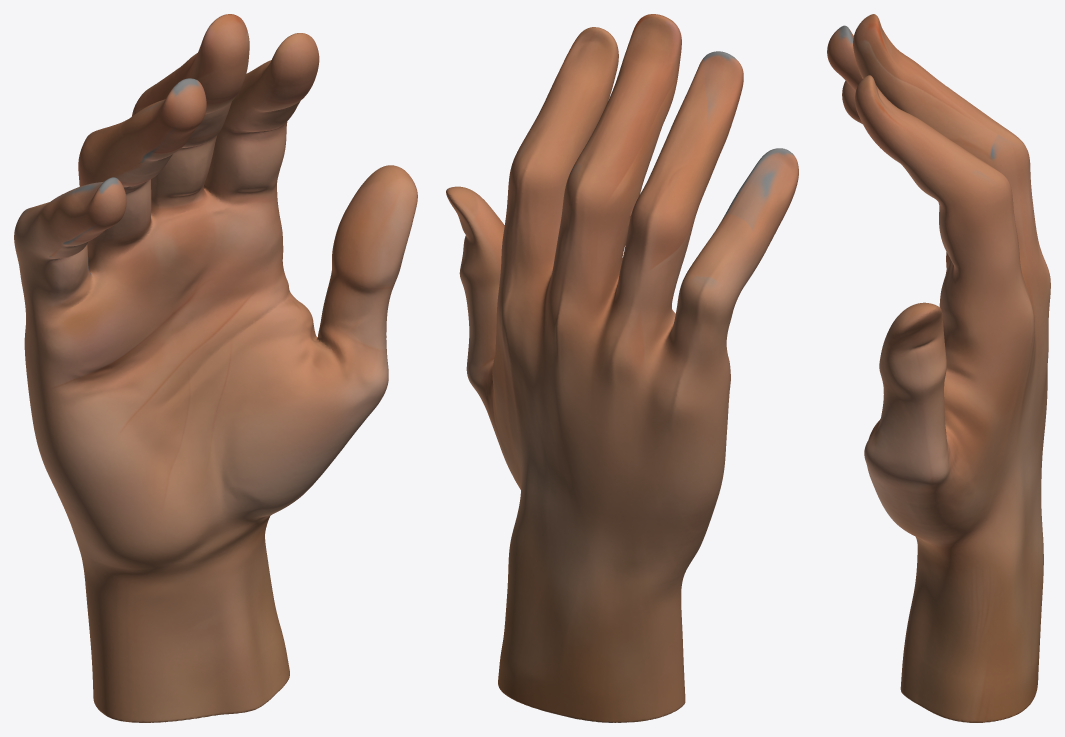
File: human_hand_3d_model.glb
The picture shows the model from 3 angles, left to right: view 1: azimuth 30°, elevation 25°; view 2: azimuth 150°, elevation 25°; view 3: azimuth 270°, elevation 25°; orthographic projection. The views are drawn at different scales.
Visible parts, largest first — view 1: tripo_node_bffa7dca-aee8-440f-bd4d-c9ad1c9b3b90; view 2: tripo_node_bffa7dca-aee8-440f-bd4d-c9ad1c9b3b90; view 3: tripo_node_bffa7dca-aee8-440f-bd4d-c9ad1c9b3b90.
Boxes of the visible parts, x1,y1,x2,y2 form: tripo_node_bffa7dca-aee8-440f-bd4d-c9ad1c9b3b90: (14,14,417,722); tripo_node_bffa7dca-aee8-440f-bd4d-c9ad1c9b3b90: (446,14,798,722); tripo_node_bffa7dca-aee8-440f-bd4d-c9ad1c9b3b90: (827,14,1050,722).
Size of the model in its own units: 0.5229 by 1 by 0.309.
1 material, 1 textured.
